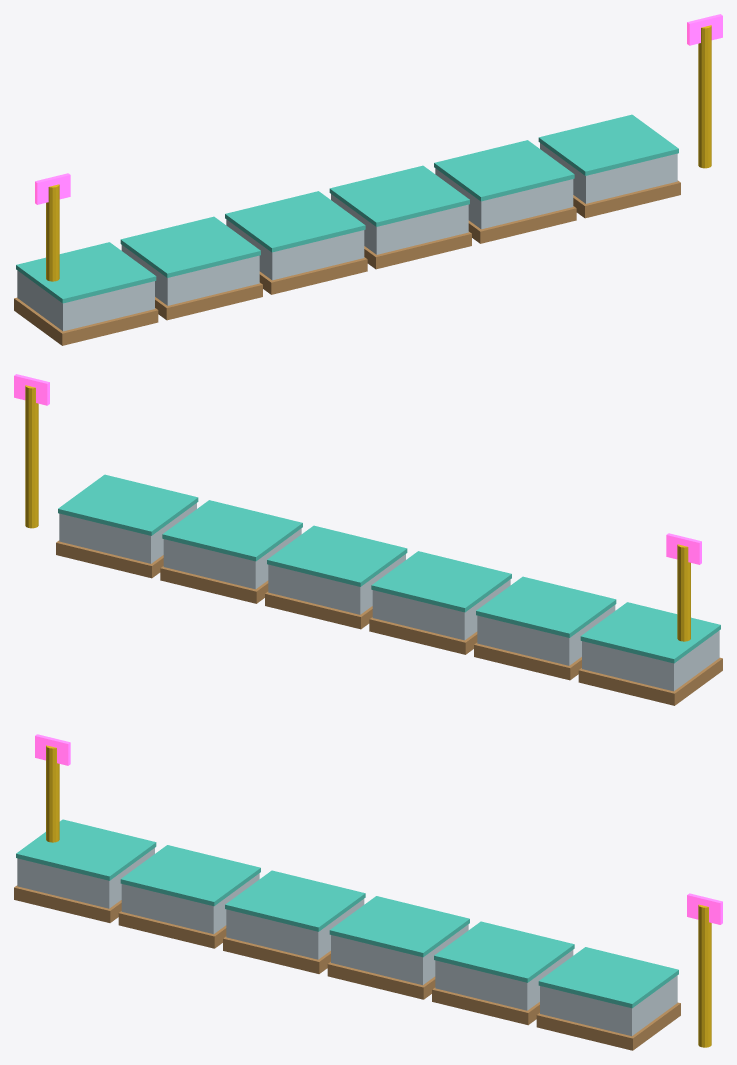
Rendered from gate-pallet-ramp.glb.
3 views of the same model, one above another, from view 1: azimuth 30°, elevation 25°; view 2: azimuth 150°, elevation 25°; view 3: azimuth 330°, elevation 25° (orthographic).
Parts seen in each view (by area): view 1: gate-pallet-ramp; view 2: gate-pallet-ramp; view 3: gate-pallet-ramp.
Boxes of the visible parts, x1=… form: gate-pallet-ramp: x1=14, y1=14, x2=722, y2=345; gate-pallet-ramp: x1=14, y1=374, x2=722, y2=705; gate-pallet-ramp: x1=14, y1=734, x2=722, y2=1050.
Size of the model in its own units: 8.2 by 1.67 by 1.
